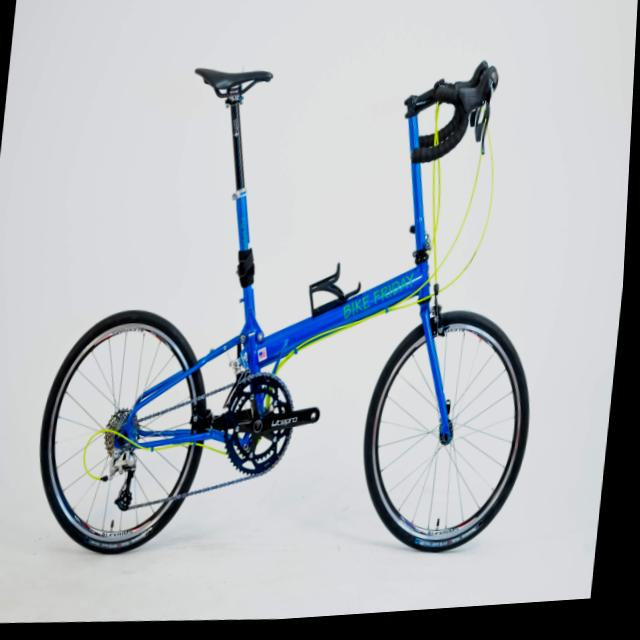folding-bike: (31, 40, 573, 587)
